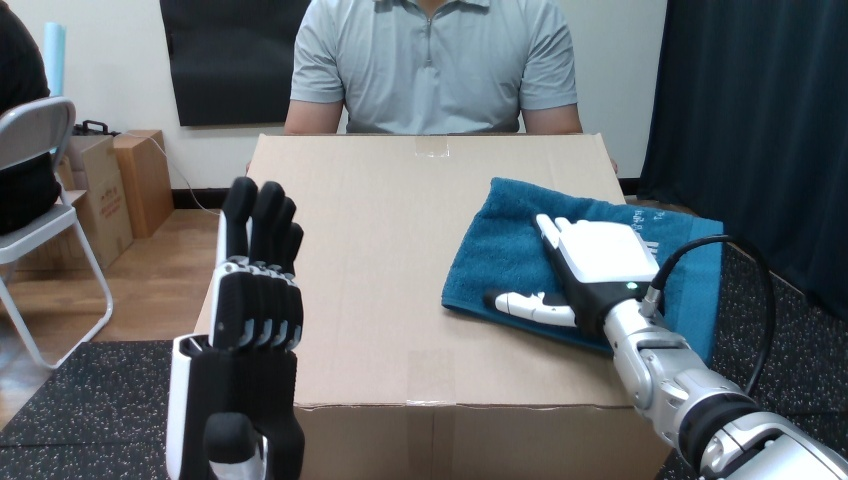left robot hand: (484, 213, 847, 479), (166, 177, 304, 478)
